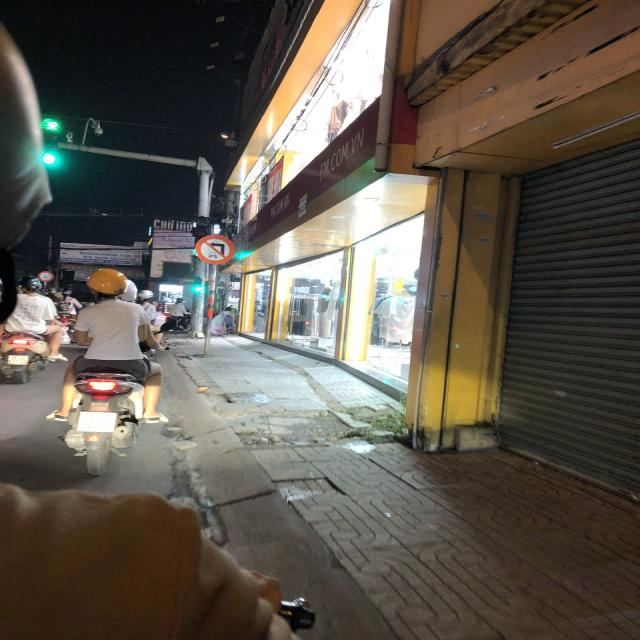Bien bao cam xe o to re trai: (193, 231, 238, 265)
